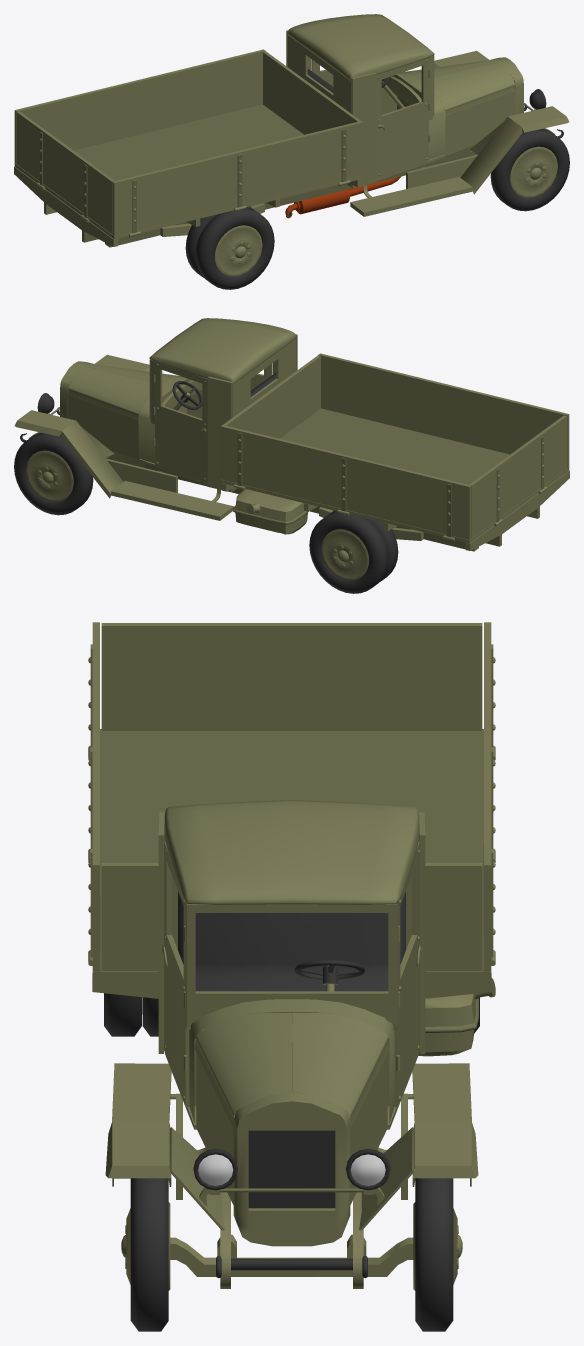
3 views of the same model, one above another, from view 1: azimuth 30°, elevation 25°; view 2: azimuth 150°, elevation 25°; view 3: azimuth 270°, elevation 25° (orthographic). The views are drawn at different scales.
Parts seen in each view (by area): view 1: Zis; view 2: Zis; view 3: Zis.
Boxes of the visible parts, box(x1,y1,x2,y2) form: Zis: box(14, 14, 569, 289); Zis: box(14, 318, 569, 593); Zis: box(88, 622, 495, 1331).
Size of the model in its own units: 611 by 217 by 223.
